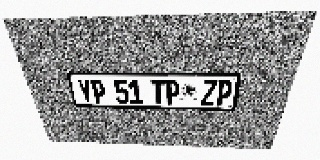1: (127, 79, 143, 104)
5: (113, 79, 130, 104)
P: (215, 80, 233, 106), (90, 79, 107, 103), (165, 80, 179, 105)
T: (151, 80, 165, 105)
Y: (76, 79, 94, 103)
Z: (201, 80, 218, 105)
